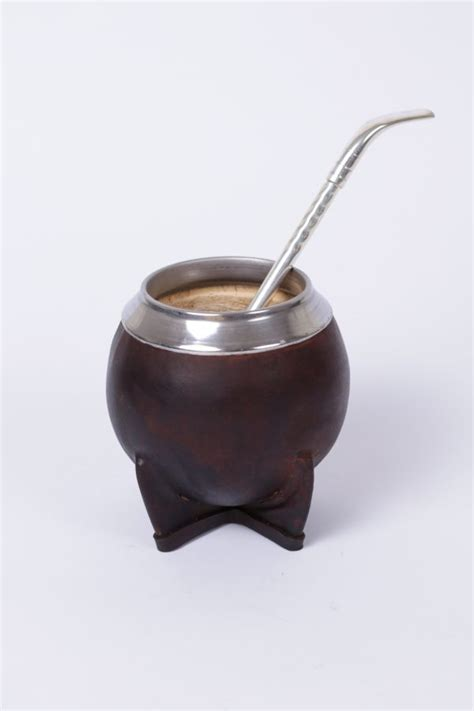cuero: (101, 322, 357, 555)
